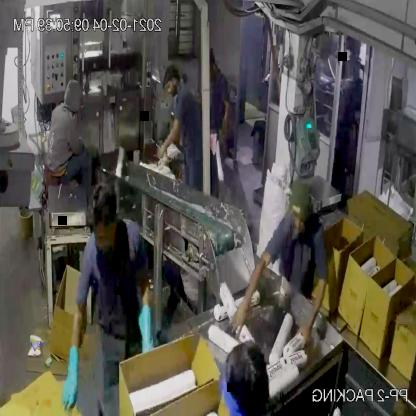glove: (129, 293, 159, 366), (62, 337, 83, 416)
no_glove: (226, 250, 276, 341), (296, 262, 332, 354), (158, 110, 180, 158)
